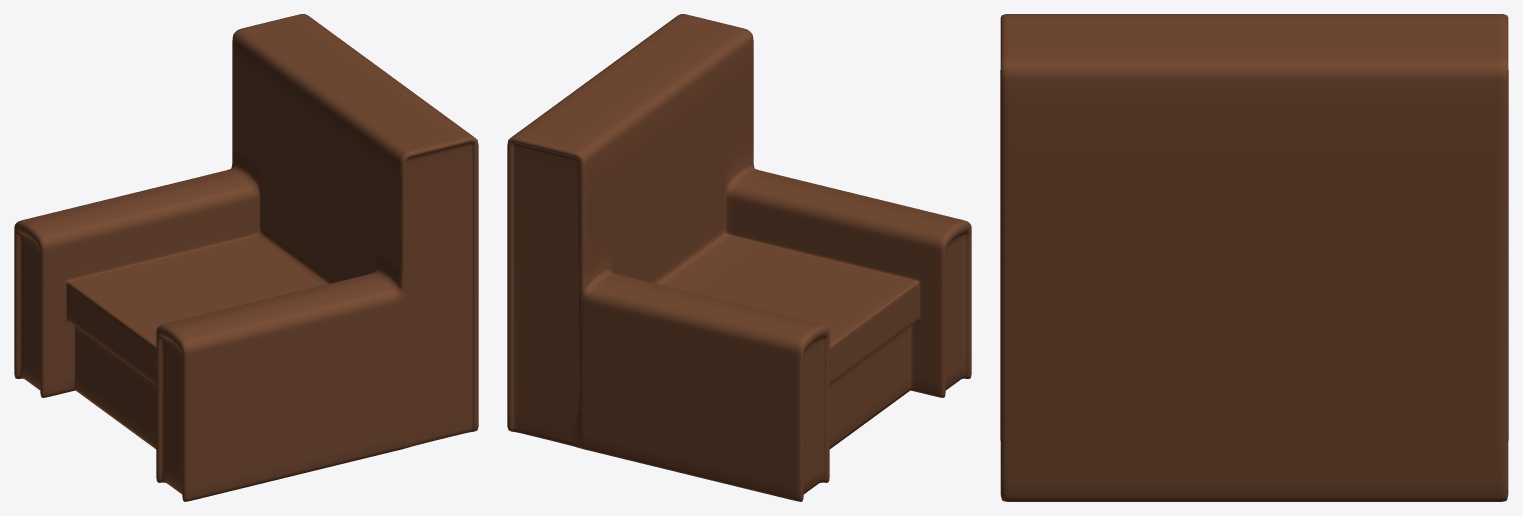
File: Living_room_sofa_1.fbx
3 renders of one model, left to right at view 1: azimuth 30°, elevation 25°; view 2: azimuth 150°, elevation 25°; view 3: azimuth 270°, elevation 25°, orthographic. The views are drawn at different scales.
Parts seen in each view (by area): view 1: Living_room_sofa_1; view 2: Living_room_sofa_1; view 3: Living_room_sofa_1.
Part boxes in pixels (bbox=[...]): Living_room_sofa_1: bbox=[14, 14, 478, 501]; Living_room_sofa_1: bbox=[507, 14, 971, 501]; Living_room_sofa_1: bbox=[1000, 14, 1508, 501].
Size of the model in its own units: 96.01 by 91.73 by 96.21.
